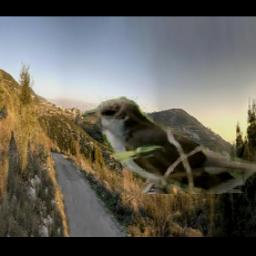Cuckoo: (82, 97, 256, 195)
